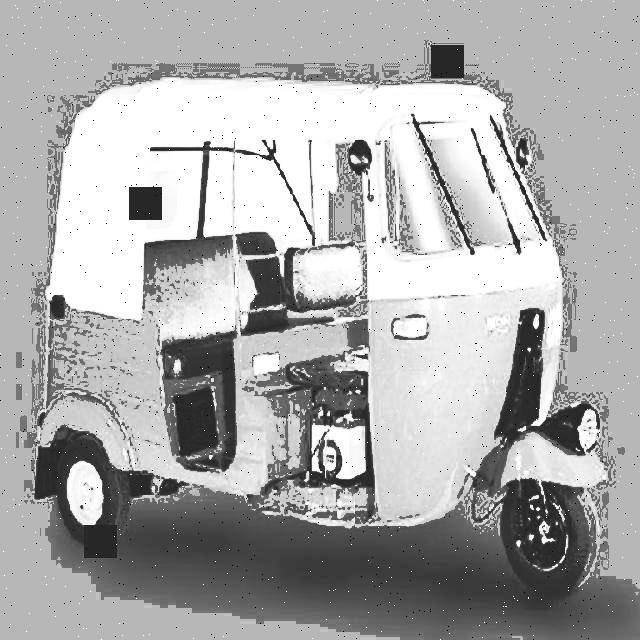Auto-Rickshaw: (35, 68, 611, 600)
